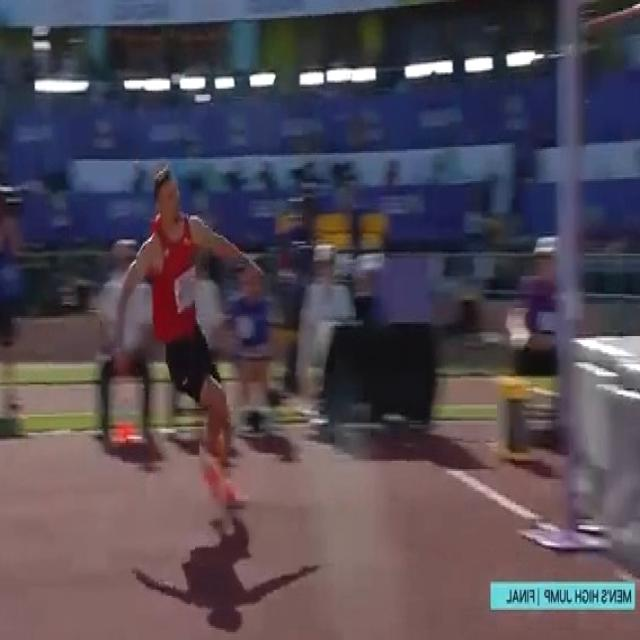run: (112, 170, 264, 512)
